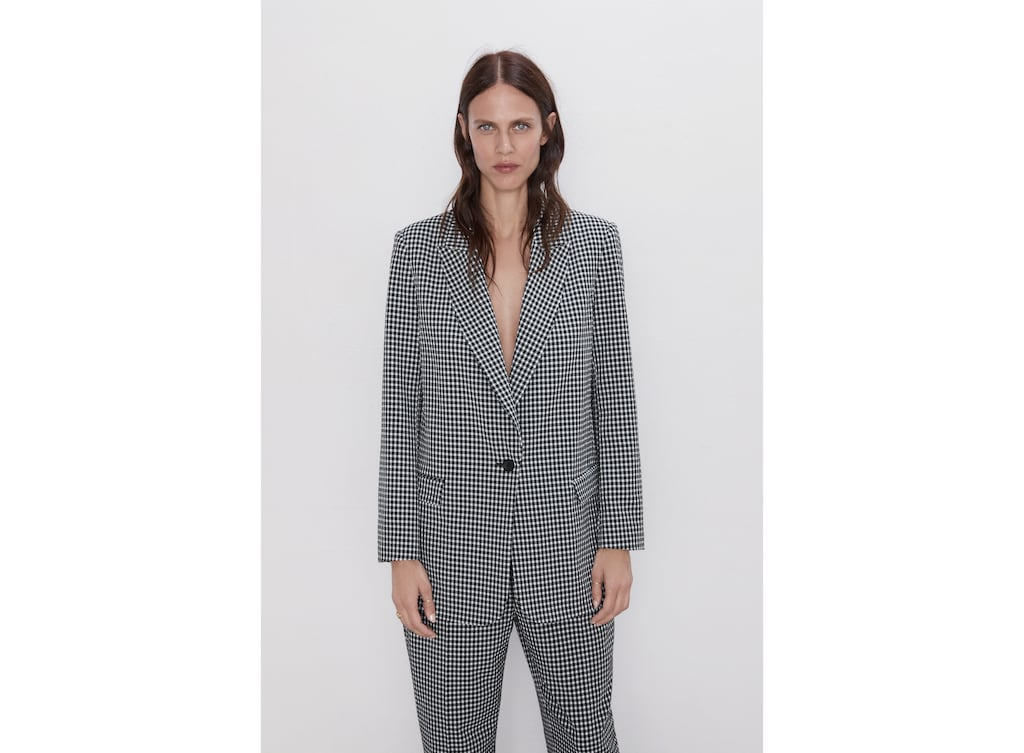F_W_suit jacket: (361, 196, 659, 604)
